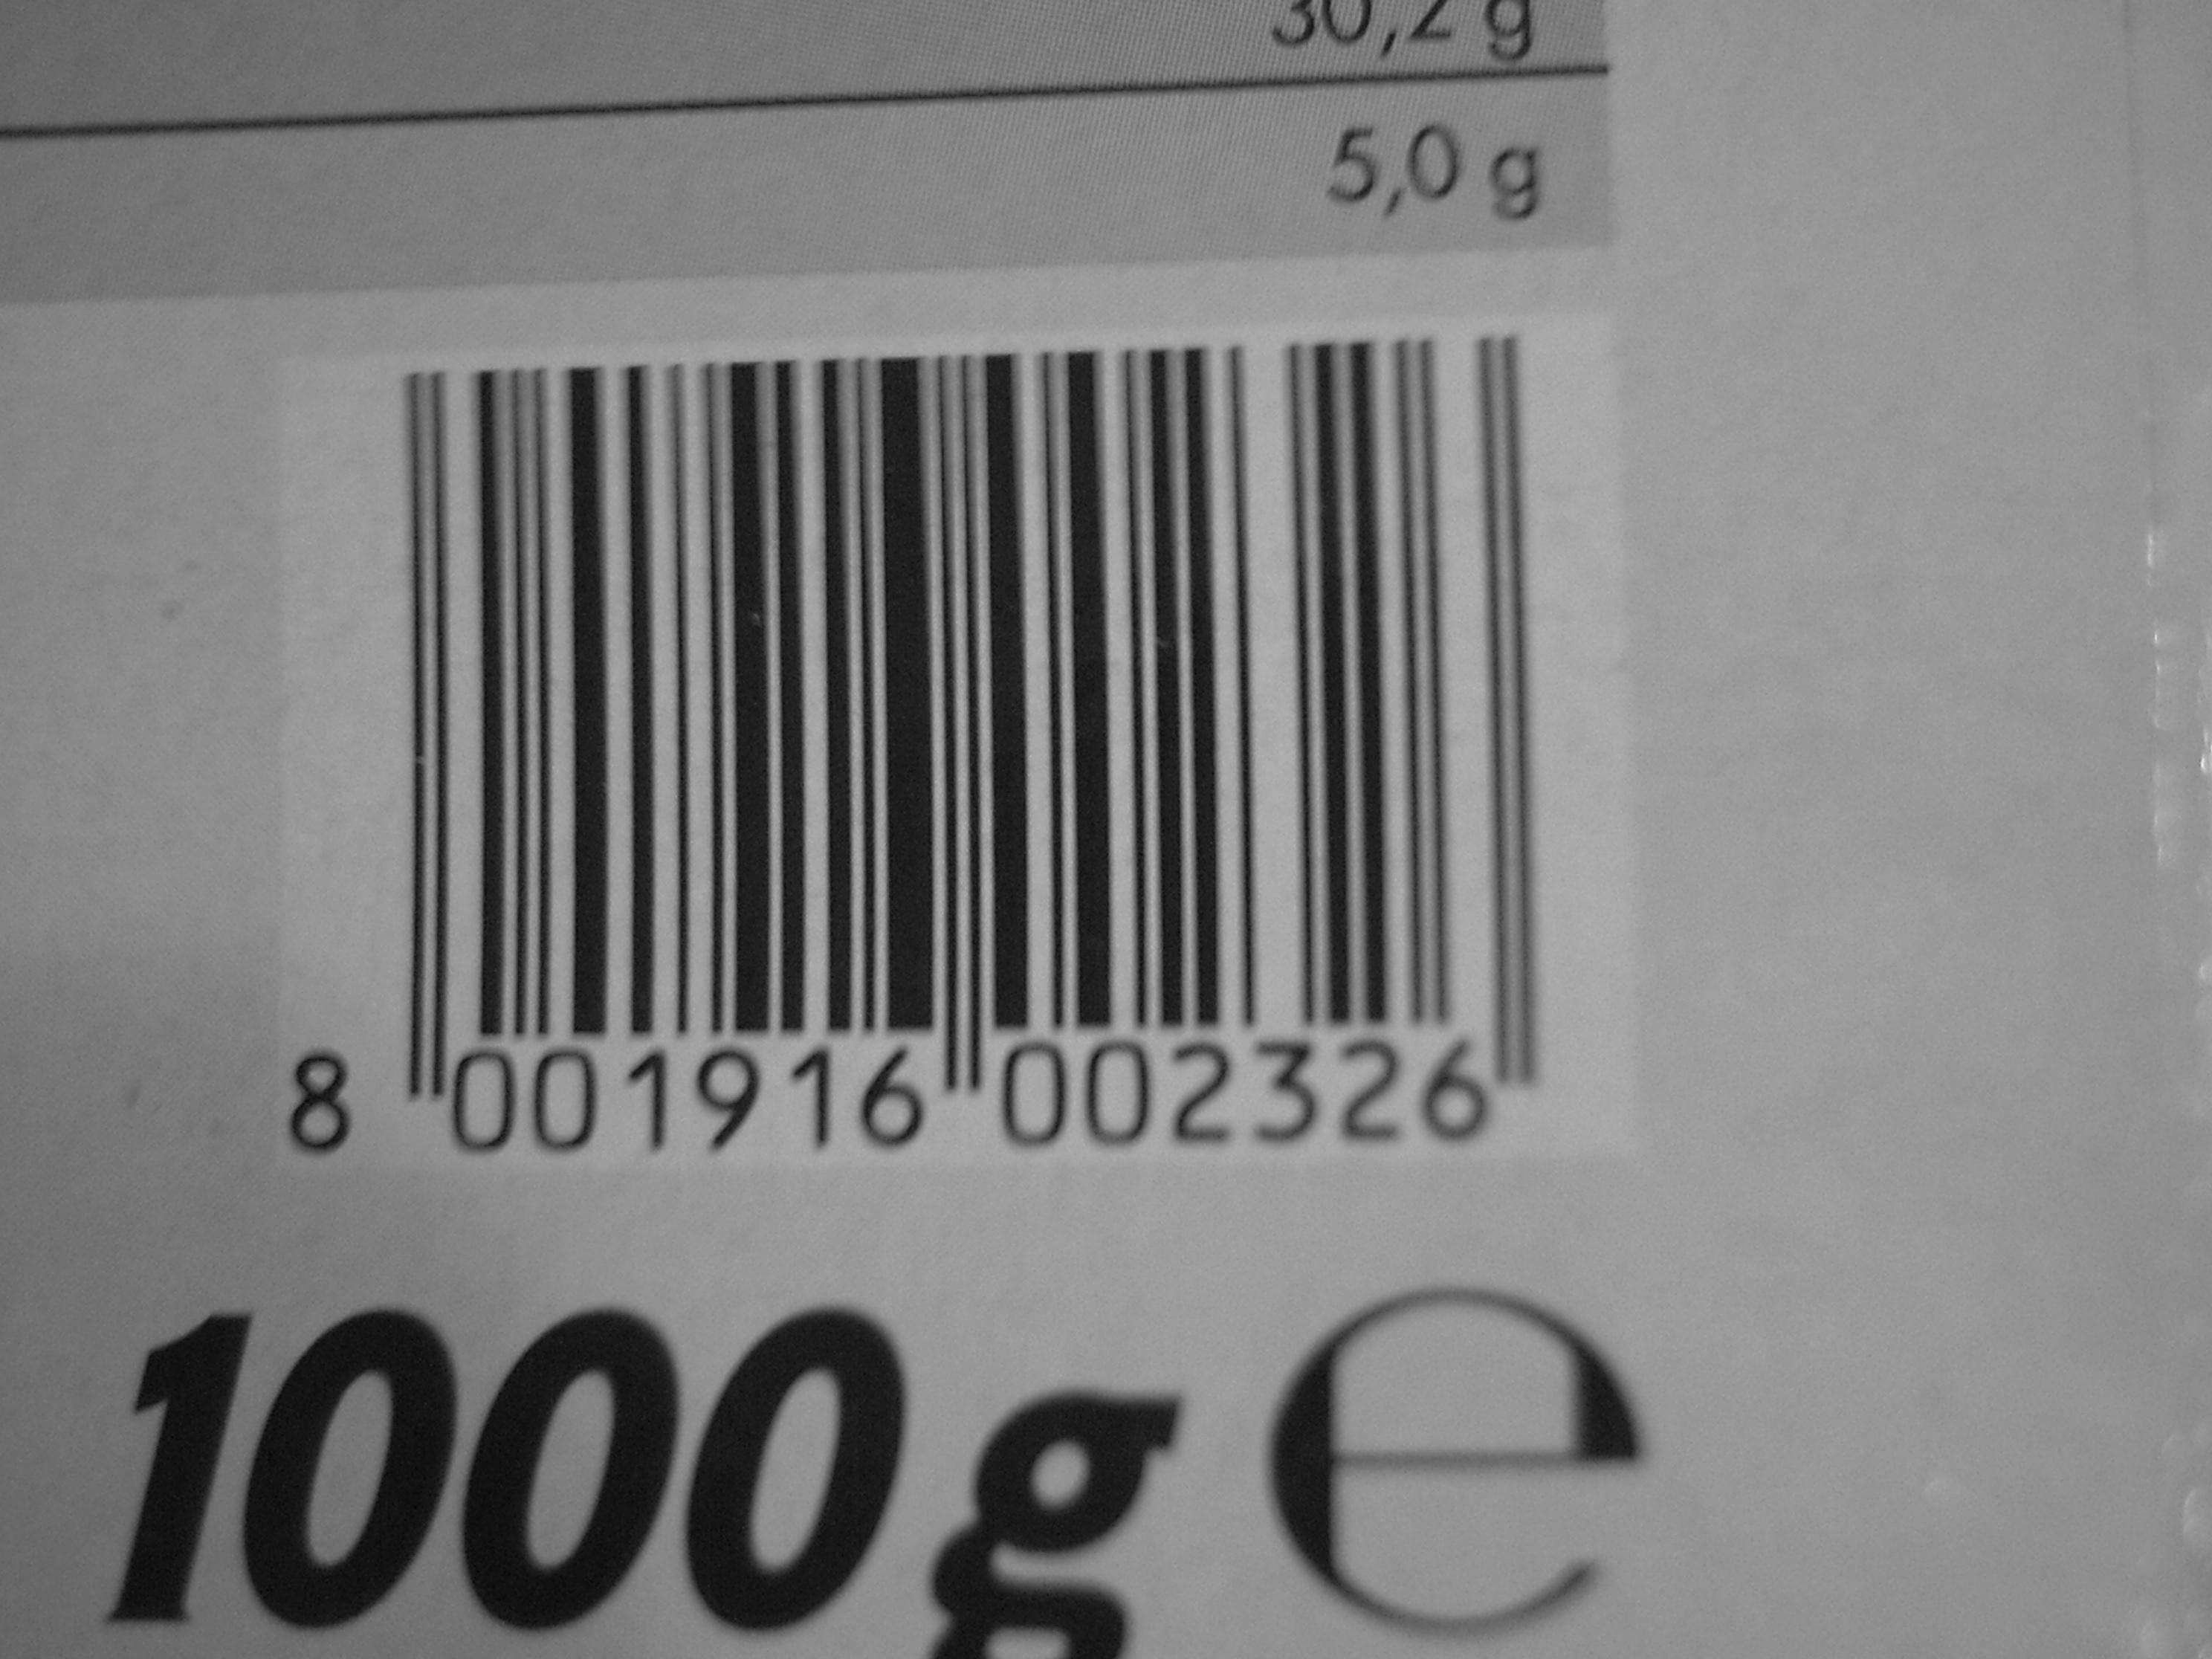Barcode: (343, 261, 1545, 1114)
